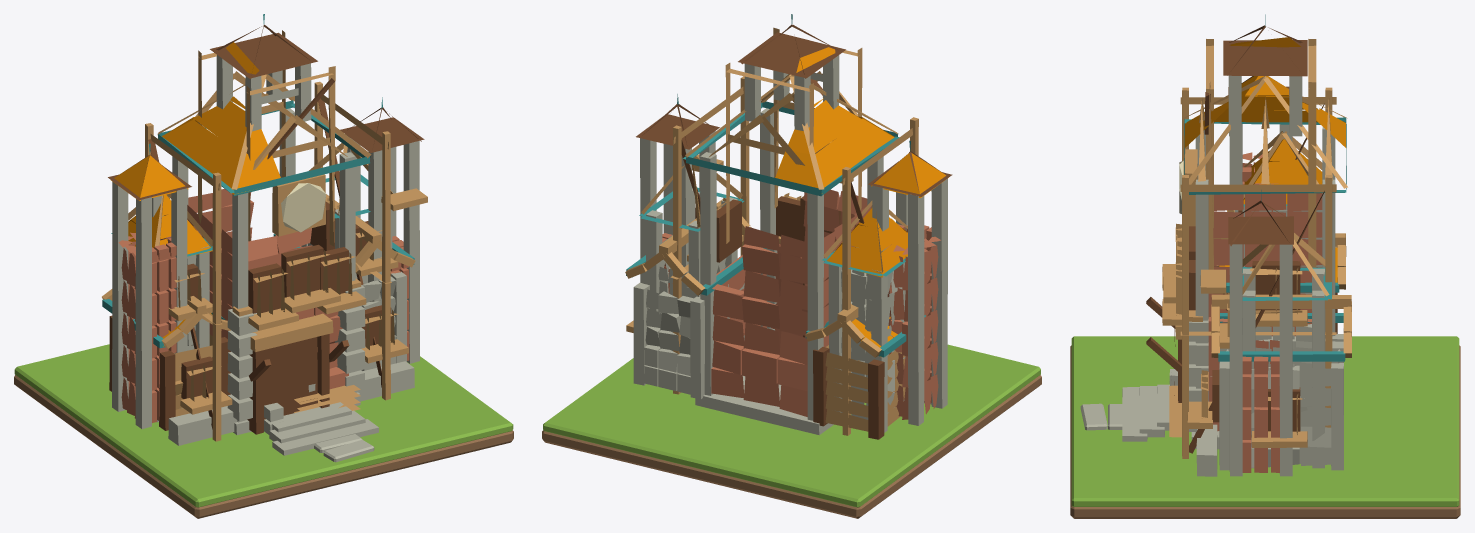
Rendered from town_hall_l09_construction_LOD2.glb.
3 renders of one model, left to right at view 1: azimuth 30°, elevation 25°; view 2: azimuth 150°, elevation 25°; view 3: azimuth 270°, elevation 25°, orthographic. The views are drawn at different scales.
Parts seen in each view (by area): view 1: town_hall_l09_construction_foundation.001, town_hall_l09_construction_grass_tile.001, town_hall_l09_construction_earth_tile.001, town_hall_l09_construction_path_stone.005; view 2: town_hall_l09_construction_foundation.001, town_hall_l09_construction_grass_tile.001, town_hall_l09_construction_earth_tile.001; view 3: town_hall_l09_construction_foundation.001, town_hall_l09_construction_grass_tile.001, town_hall_l09_construction_earth_tile.001, town_hall_l09_construction_path_stone.005.
Part boxes in pixels (box(x1,y1,x2,y2)): town_hall_l09_construction_foundation.001: box(102, 14, 427, 455); town_hall_l09_construction_grass_tile.001: box(14, 344, 513, 507); town_hall_l09_construction_earth_tile.001: box(14, 375, 513, 518); town_hall_l09_construction_path_stone.005: box(323, 439, 374, 462); town_hall_l09_construction_foundation.001: box(625, 14, 952, 439); town_hall_l09_construction_grass_tile.001: box(543, 344, 1040, 507); town_hall_l09_construction_earth_tile.001: box(542, 375, 1041, 518); town_hall_l09_construction_foundation.001: box(1122, 14, 1351, 476); town_hall_l09_construction_grass_tile.001: box(1071, 336, 1459, 506); town_hall_l09_construction_earth_tile.001: box(1070, 345, 1460, 518); town_hall_l09_construction_path_stone.005: box(1080, 403, 1107, 430).
Size of the model in its own units: 3.6 by 4.32 by 3.6.
